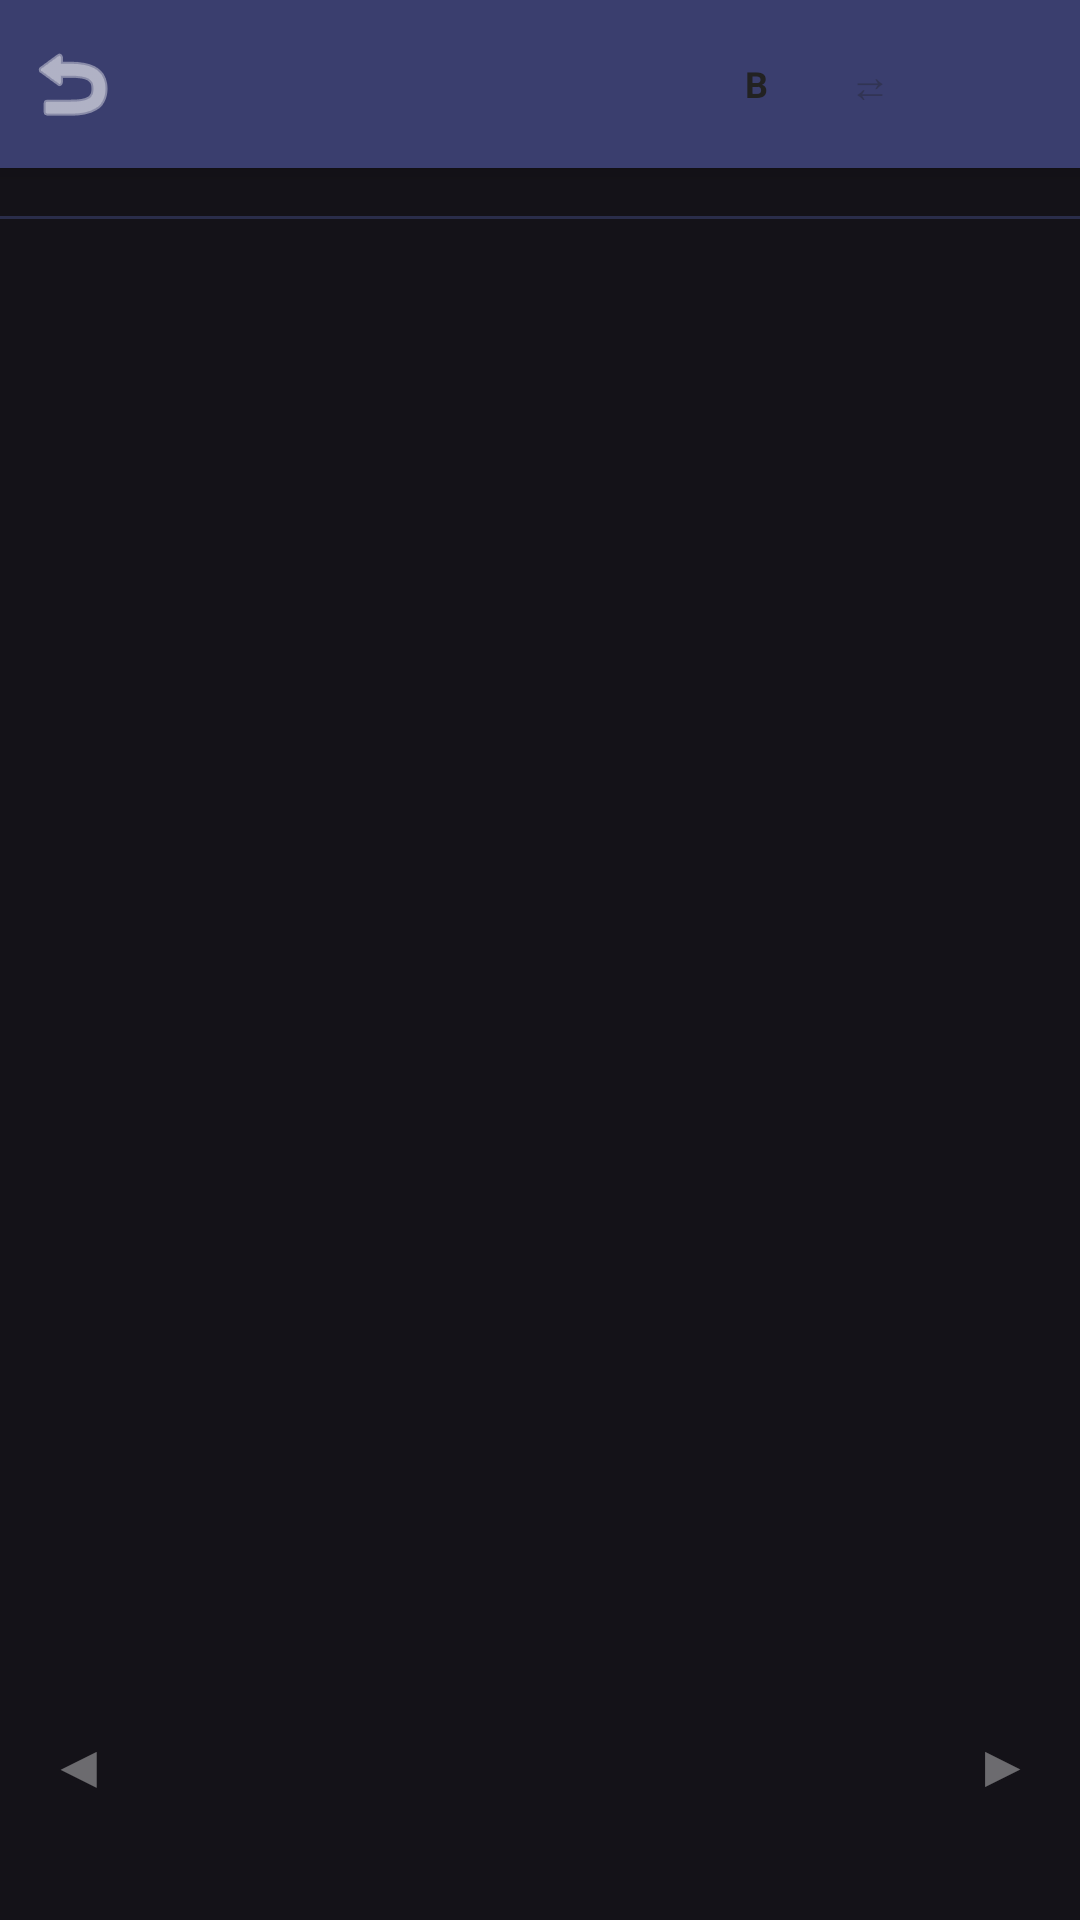

Named icons in this screenshot (1080×1920) and their centers, (x,y):
뒤로: (73,84)
